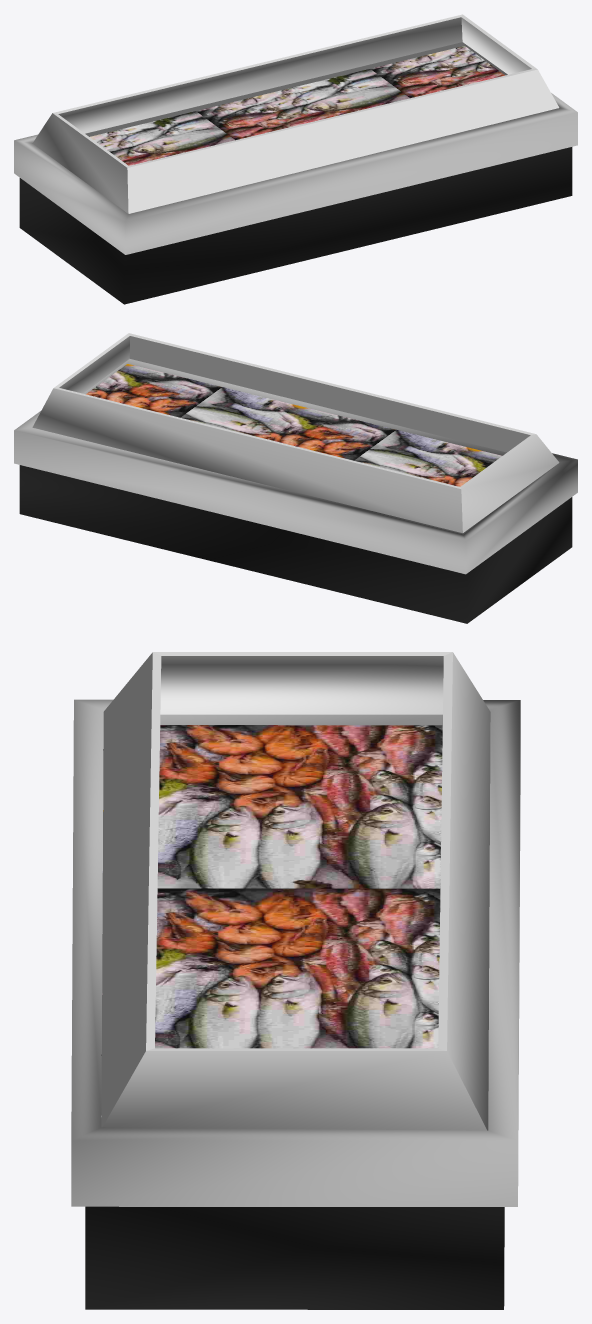
The model's file is Shelf_seafood.fbx.
The picture shows the model from 3 angles, top to bottom: view 1: azimuth 30°, elevation 25°; view 2: azimuth 150°, elevation 25°; view 3: azimuth 270°, elevation 25°; orthographic projection. The views are drawn at different scales.
Parts seen in each view (by area): view 1: Librero.017; view 2: Librero.017; view 3: Librero.017.
Part boxes in pixels (bbox=[...]): Librero.017: bbox=[14, 14, 577, 304]; Librero.017: bbox=[14, 333, 577, 623]; Librero.017: bbox=[71, 652, 520, 1309].
Size of the model in its own units: 495 by 125 by 213.
